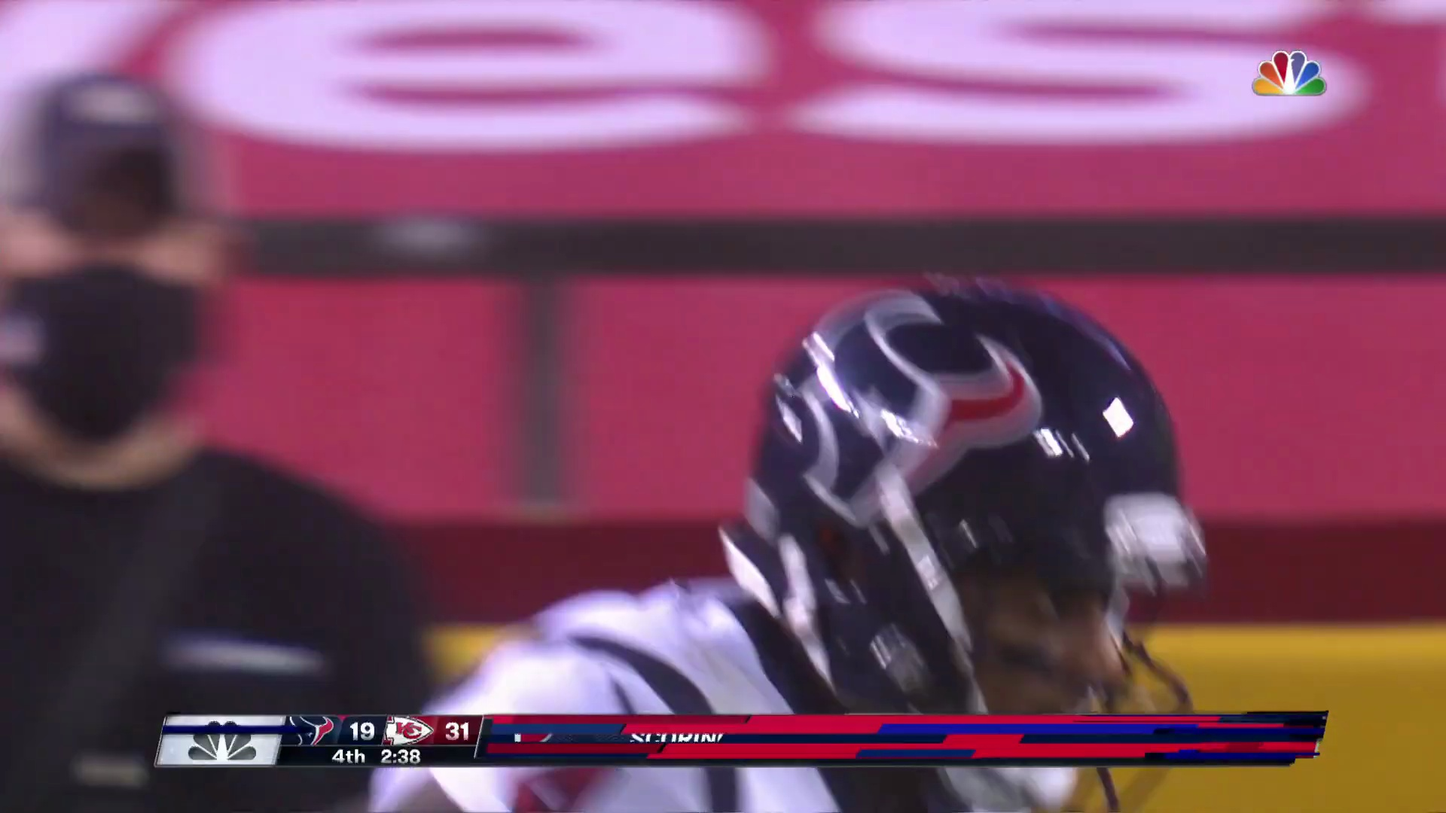Player: (688, 318, 973, 722)
